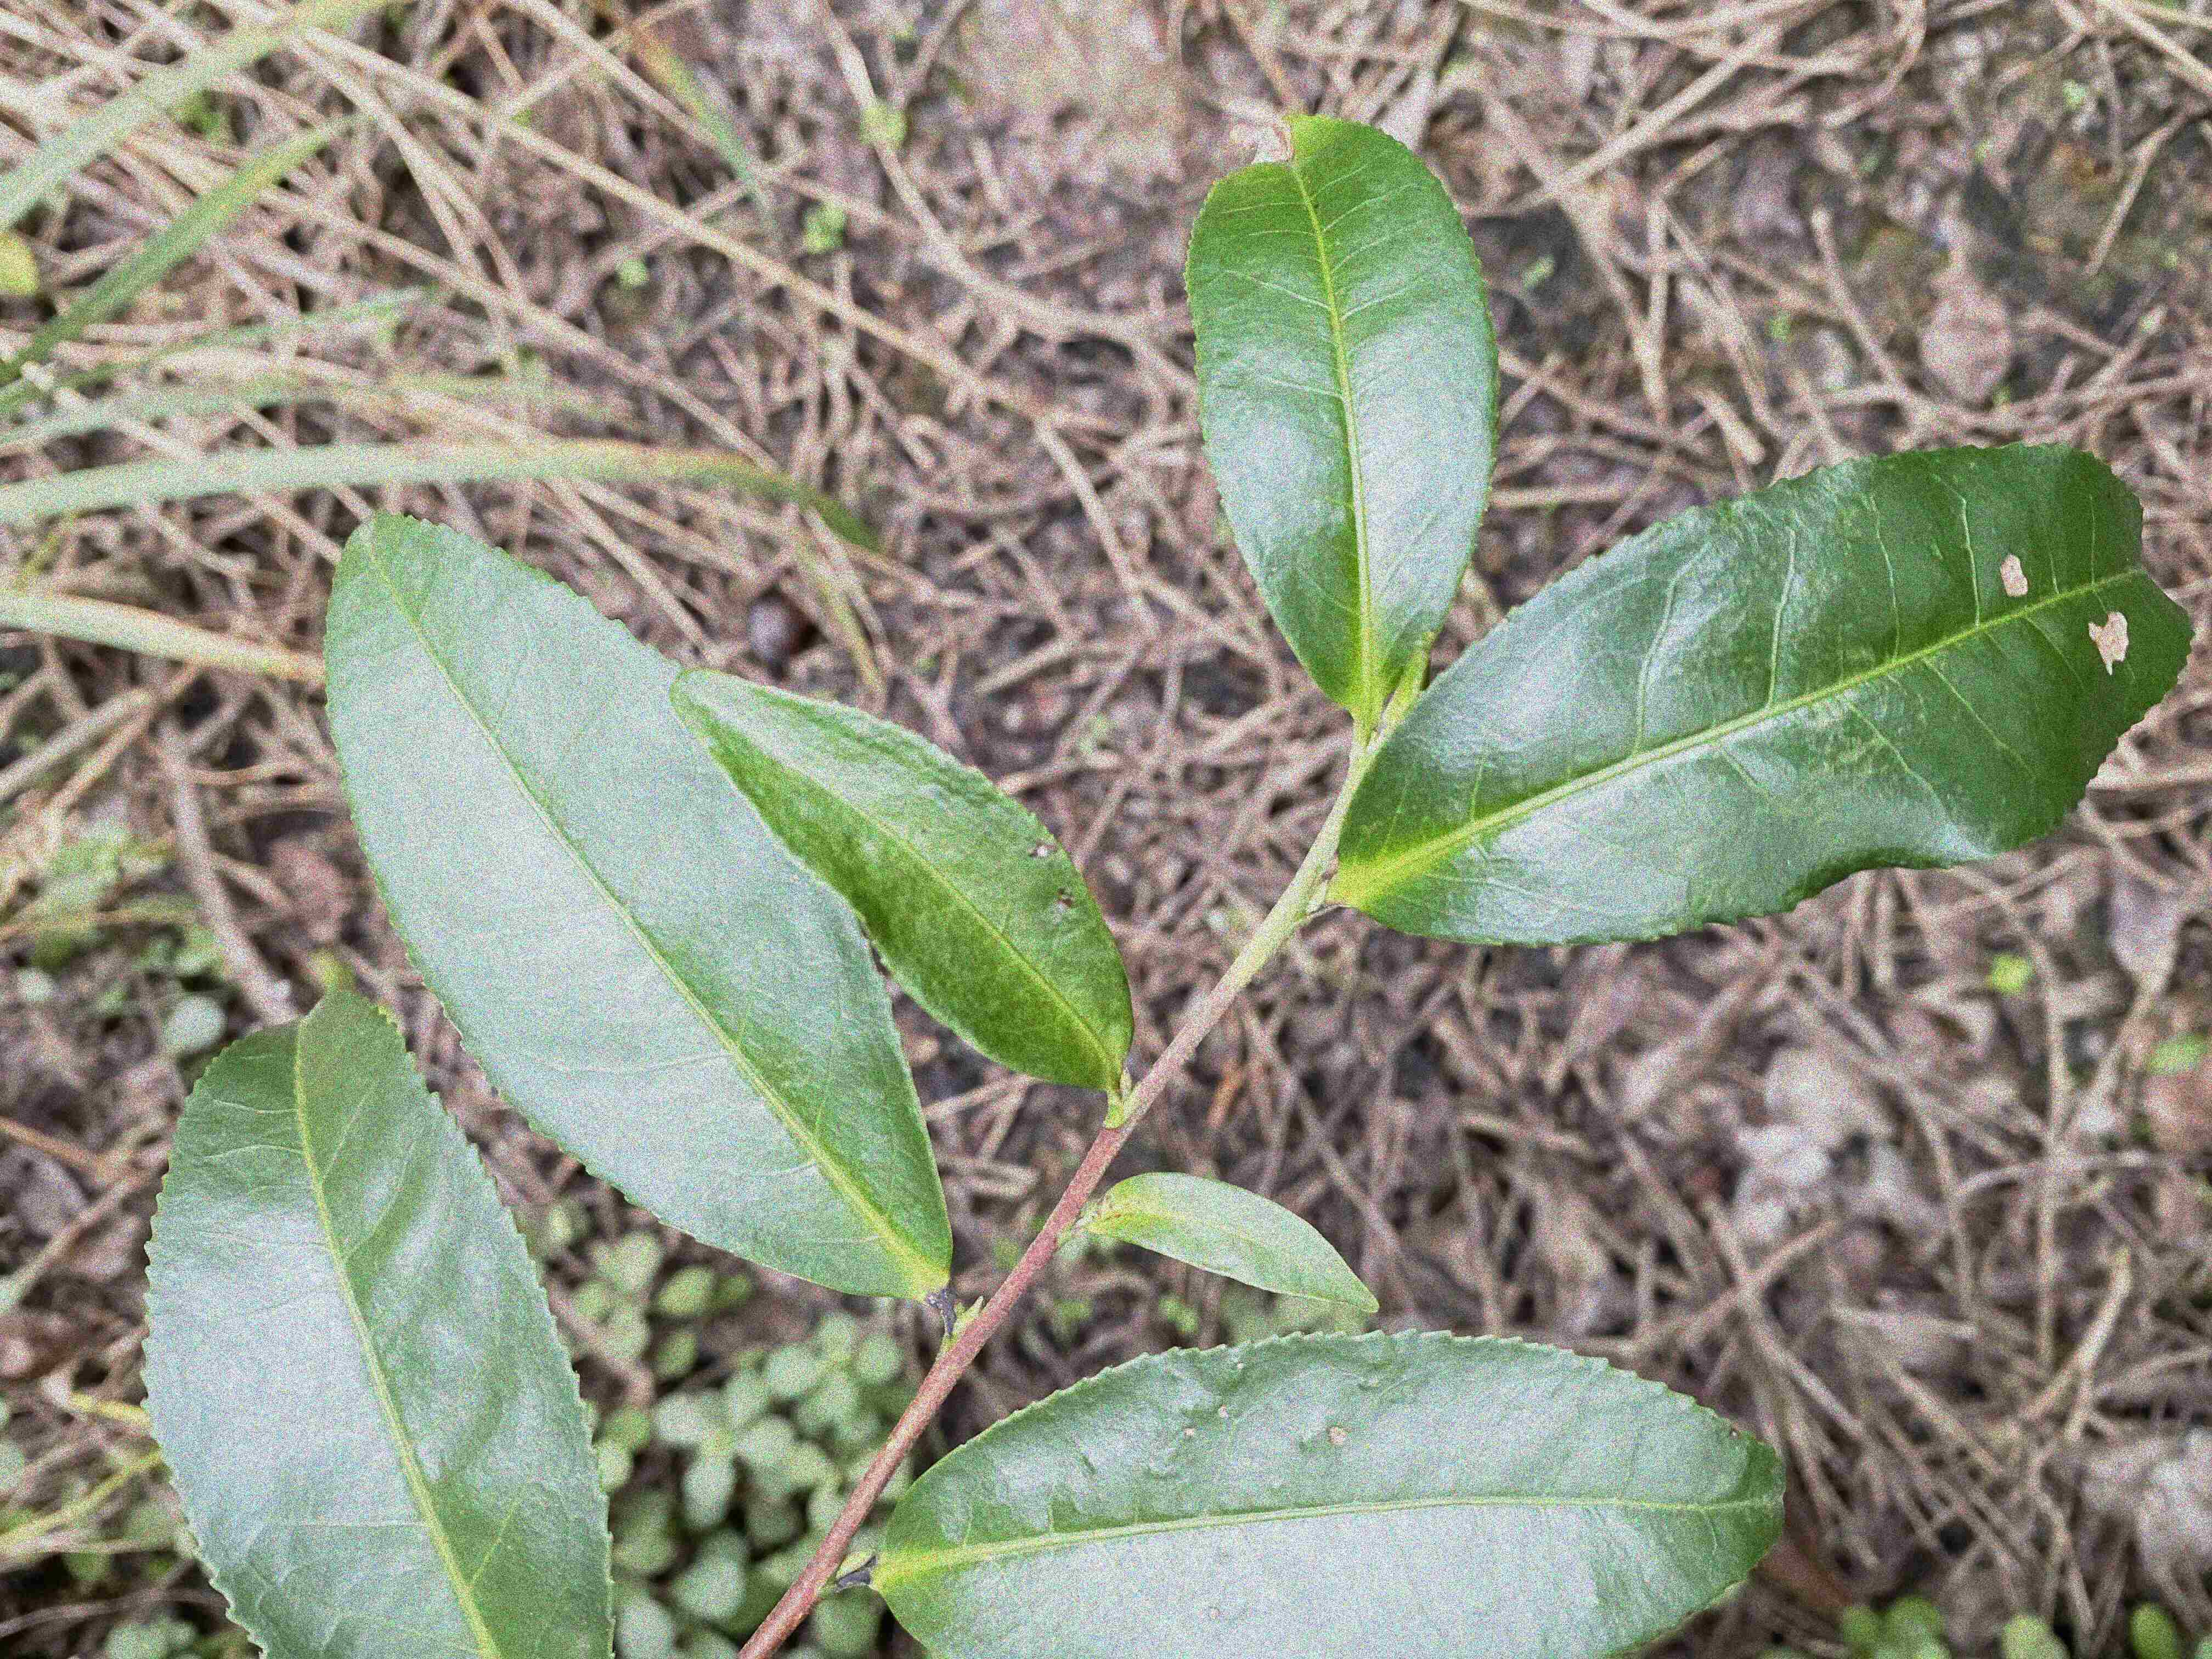healthy: (320, 504, 954, 1288), (136, 979, 620, 1656)
tanju_low: (1339, 439, 2196, 945), (883, 1323, 1789, 1657), (667, 666, 1137, 1091), (1183, 108, 1501, 708)
